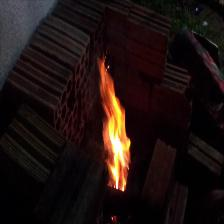fire: (95, 58, 137, 199)
